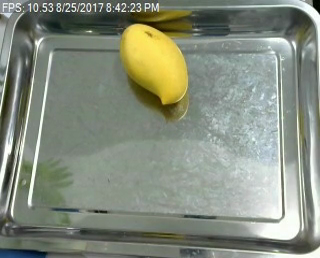Mango: (119, 21, 189, 108)
